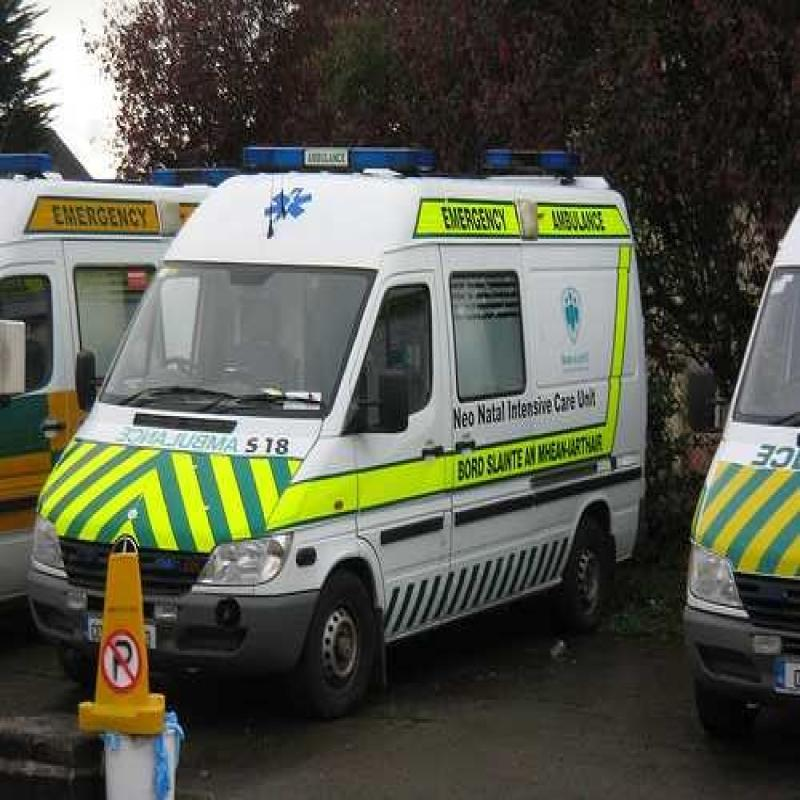AmbulanceSiren: (229, 131, 445, 204)
